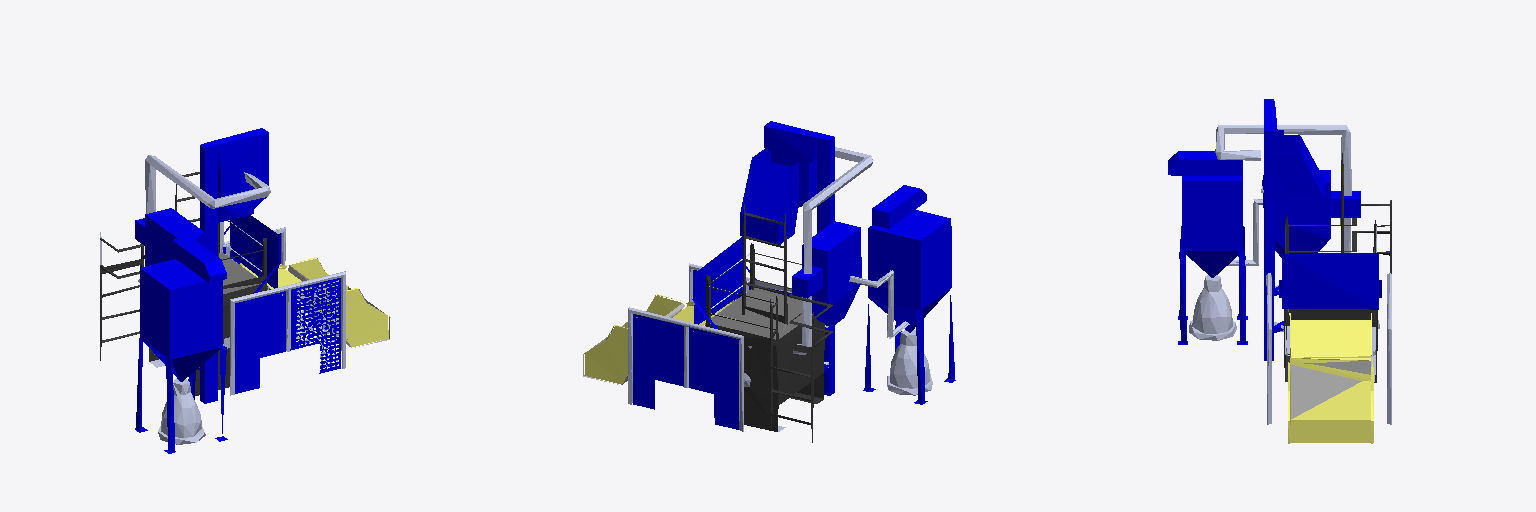
File: Shot_Blasting_Machine_modifier_textures.obj
3 renders of one model, left to right at view 1: azimuth 30°, elevation 25°; view 2: azimuth 150°, elevation 25°; view 3: azimuth 270°, elevation 25°, orthographic.
Visible parts, largest first — view 1: Solide9; view 2: Solide9; view 3: Solide9.
Boxes of the visible parts, x1,y1,x2,y2 form: Solide9: [100, 128, 390, 453]; Solide9: [583, 121, 955, 442]; Solide9: [1168, 99, 1391, 443].
Bounding box in the file's own units: 6229 × 5500 × 4378.